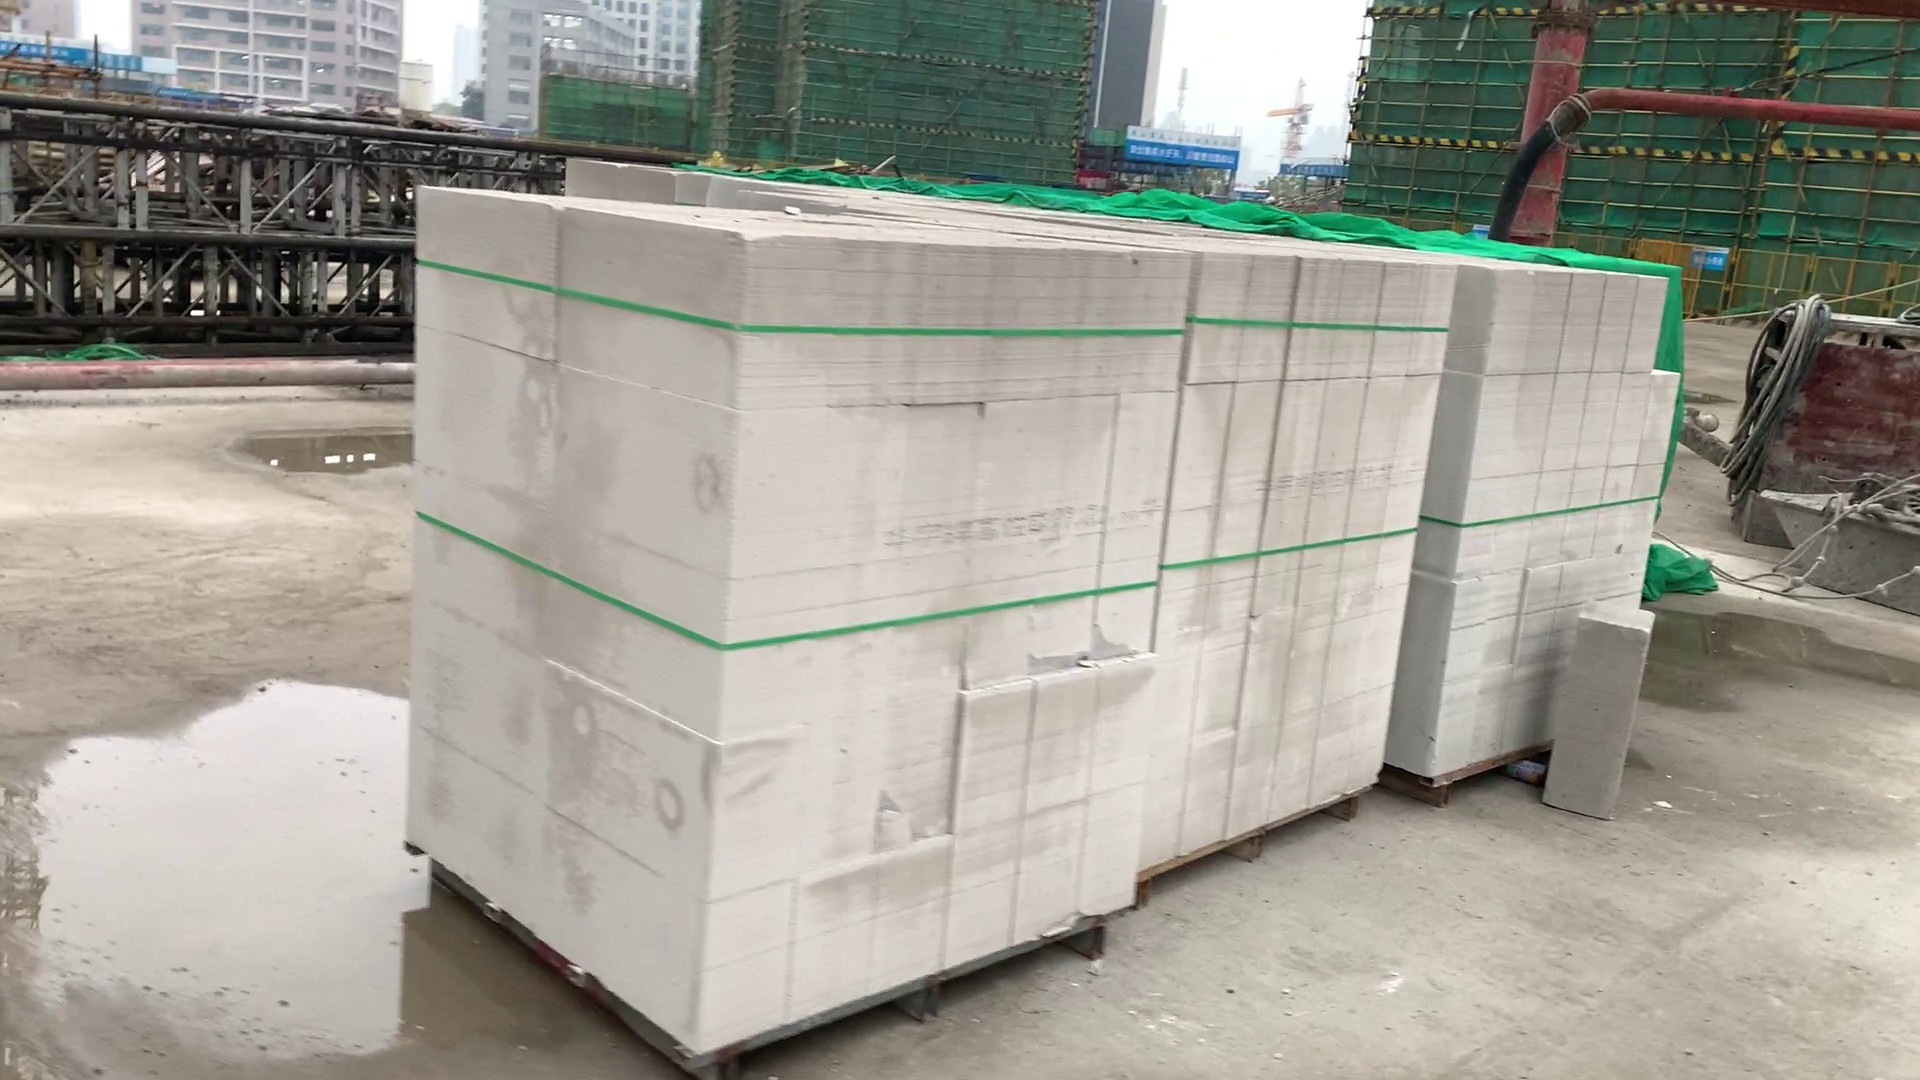brickwork: (377, 179, 754, 1060), (1131, 239, 1447, 860), (1453, 265, 1662, 798)
